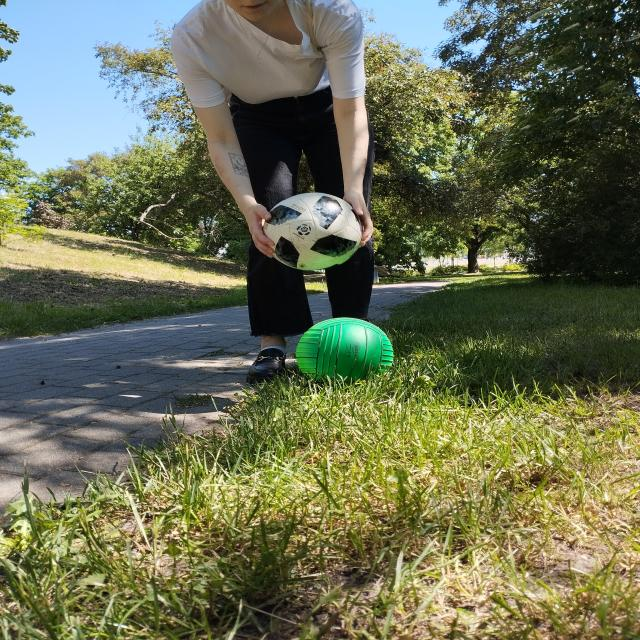nozna: (263, 192, 363, 270)
zielona: (297, 317, 395, 381)
